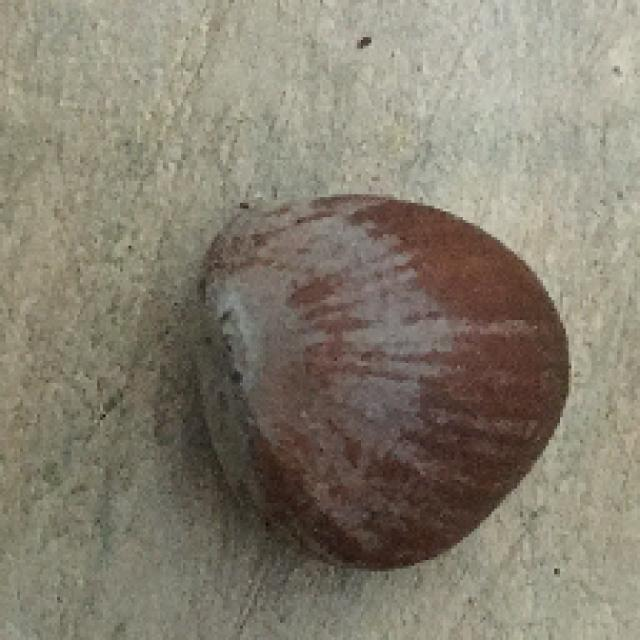qualityHazelnut: (180, 176, 563, 566)
